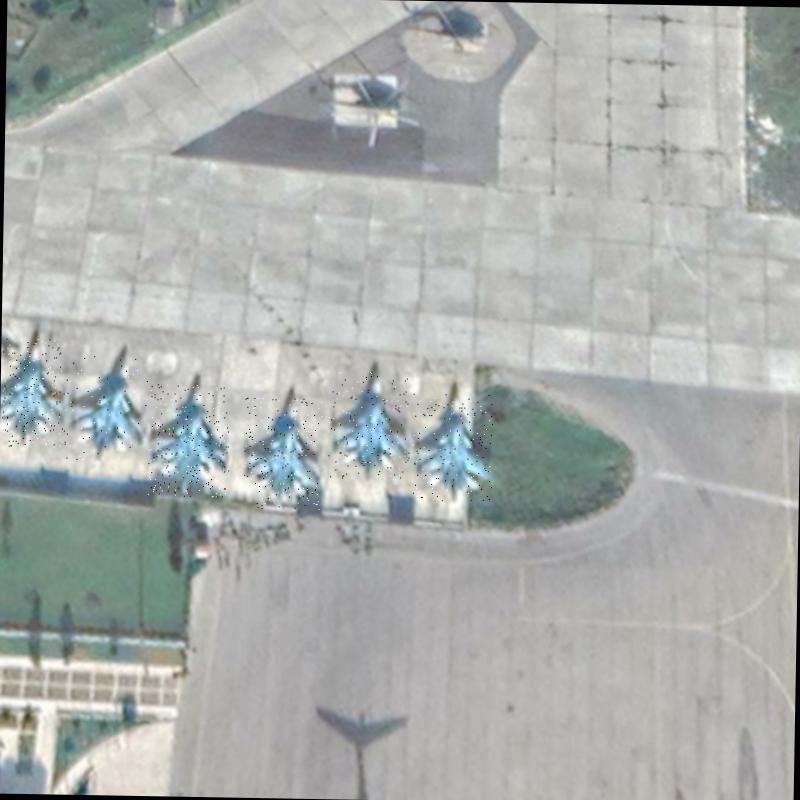A19: (148, 382, 230, 497), (243, 397, 322, 511), (65, 354, 149, 461), (328, 371, 410, 480), (411, 393, 493, 501), (1, 337, 67, 447)
